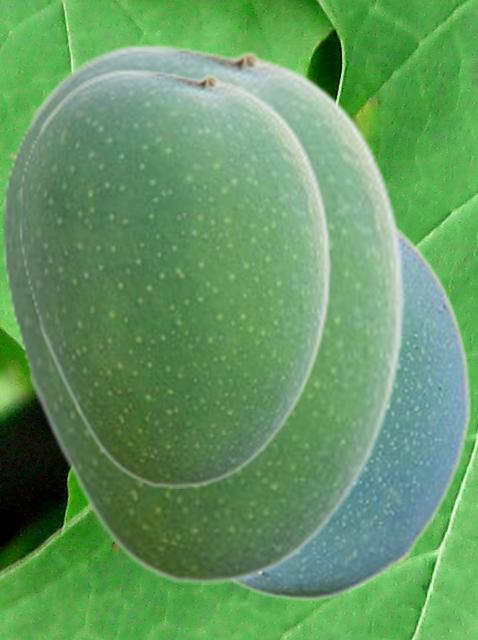green_mango: (1, 43, 405, 583), (18, 68, 331, 487), (230, 223, 471, 601)
